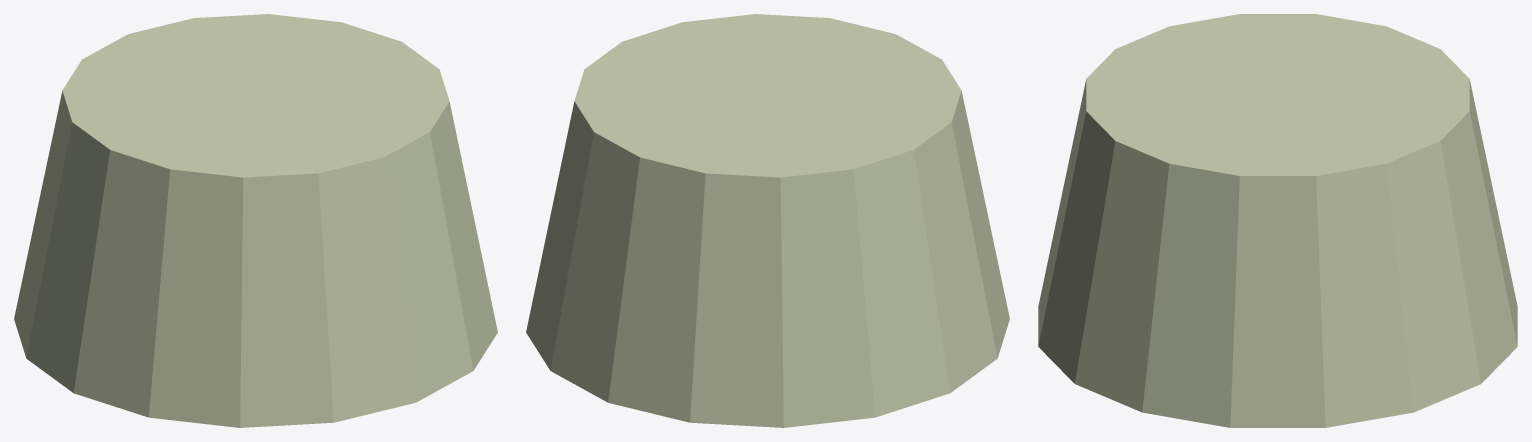
File: tantares_lv_fuel_tank_s1p5_s1p2_1_collider.obj
3 views of the same model, side by side, from view 1: azimuth 30°, elevation 25°; view 2: azimuth 150°, elevation 25°; view 3: azimuth 270°, elevation 25° (orthographic).
Parts seen in each view (by area): view 1: tantares_lv_fuel_tank_s1p5_s1p2_1_collider; view 2: tantares_lv_fuel_tank_s1p5_s1p2_1_collider; view 3: tantares_lv_fuel_tank_s1p5_s1p2_1_collider.
Part boxes in pixels (<box>): tantares_lv_fuel_tank_s1p5_s1p2_1_collider: <box>14,14,497,427</box>; tantares_lv_fuel_tank_s1p5_s1p2_1_collider: <box>526,14,1009,427</box>; tantares_lv_fuel_tank_s1p5_s1p2_1_collider: <box>1038,14,1517,427</box>.
Size of the model in its own units: 1.88 by 1 by 1.88.
